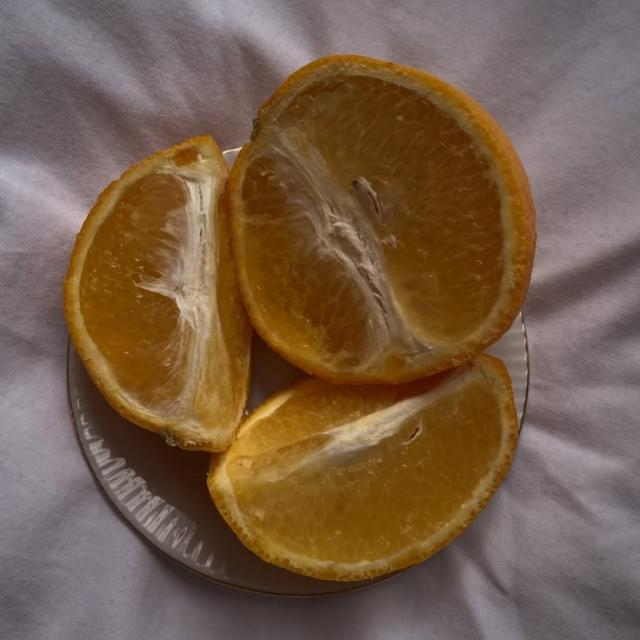orange: (229, 56, 535, 383), (208, 355, 517, 579), (65, 137, 251, 450)
